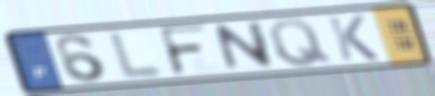6: (54, 32, 110, 85)
F: (155, 22, 212, 79)
K: (324, 13, 382, 63)
L: (107, 29, 167, 82)
N: (211, 19, 278, 74)
Q: (265, 17, 336, 68)
